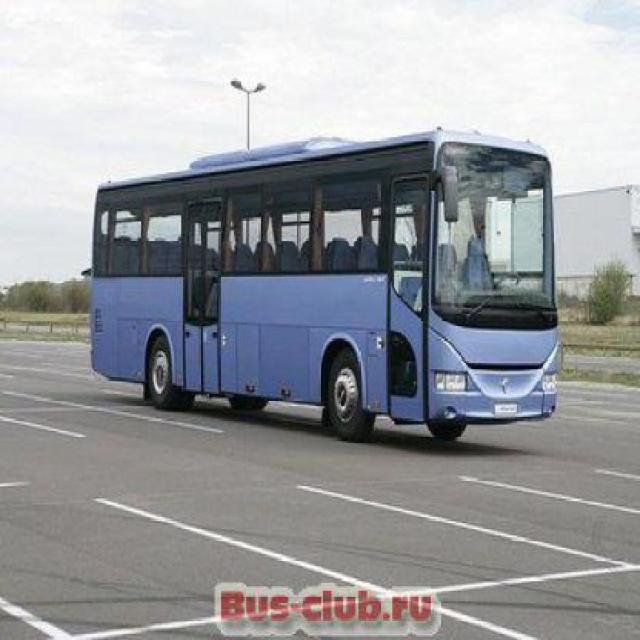bus: (93, 126, 561, 442)
